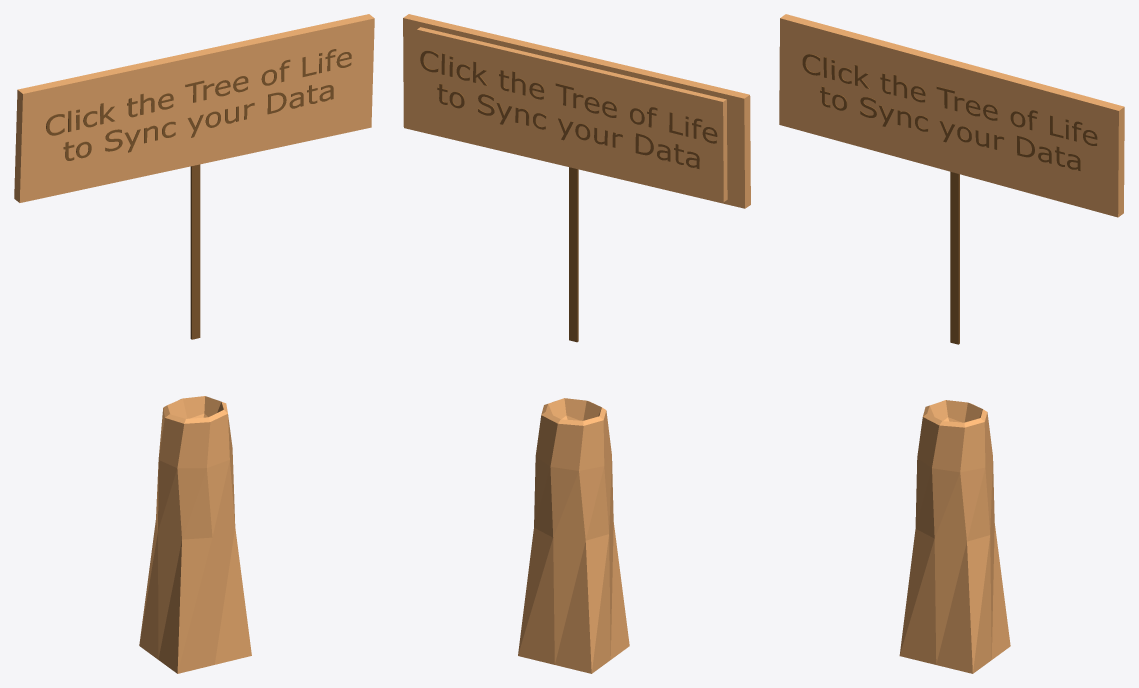
Rendered from sign.fbx.
The picture shows the model from 3 angles, left to right: view 1: azimuth 30°, elevation 25°; view 2: azimuth 150°, elevation 25°; view 3: azimuth 330°, elevation 25°; orthographic projection.
Parts seen in each view (by area): view 1: planl1, log, back_text, plank; view 2: plank2, log, planl1, front_text, plank; view 3: planl1, log, back_text, plank.
Part boxes in pixels (bbox=[...]): planl1: bbox=[14, 14, 374, 202]; log: bbox=[139, 396, 251, 673]; back_text: bbox=[46, 49, 351, 160]; plank: bbox=[190, 164, 200, 339]; plank2: bbox=[417, 27, 727, 202]; log: bbox=[518, 398, 629, 673]; planl1: bbox=[403, 14, 750, 208]; front_text: bbox=[420, 50, 717, 169]; plank: bbox=[569, 167, 578, 342]; planl1: bbox=[779, 14, 1124, 217]; log: bbox=[899, 400, 1010, 673]; back_text: bbox=[802, 54, 1097, 170]; plank: bbox=[950, 171, 959, 344].
Size of the model in its own units: 15.88 by 26.08 by 3.01.
